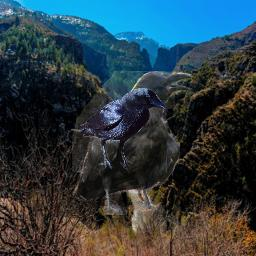Crow: (72, 71, 192, 215), (80, 88, 166, 171)
